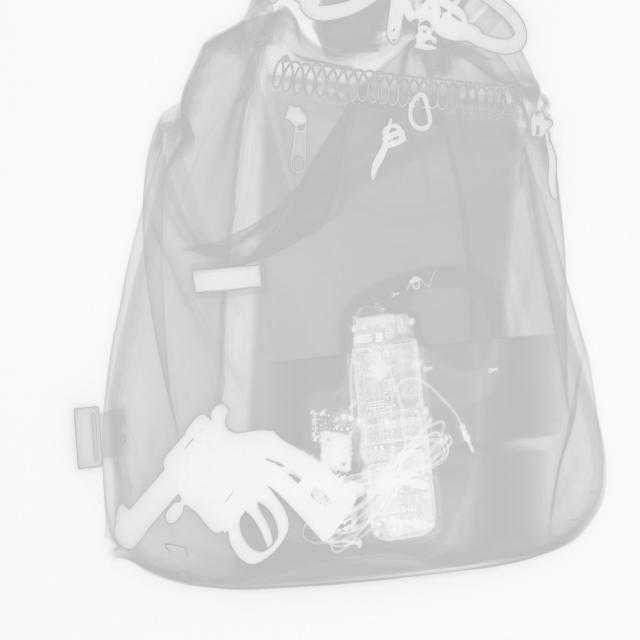pistol: (112, 398, 358, 568)
